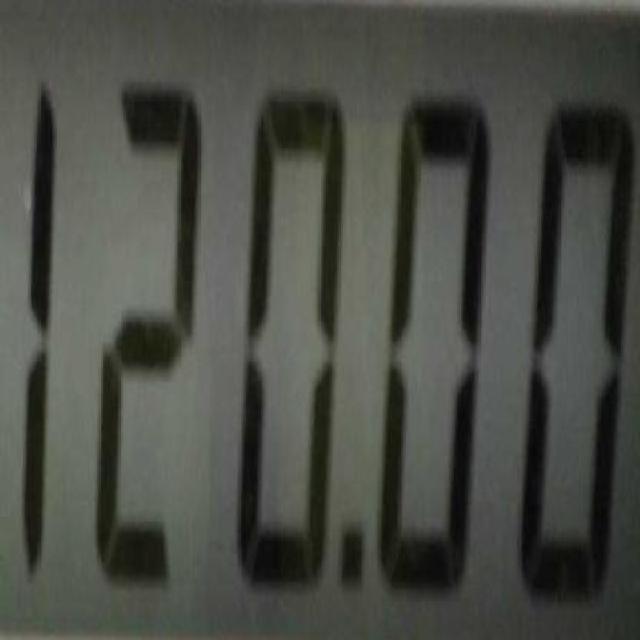.: (340, 531, 364, 583)
0: (232, 89, 342, 589), (380, 101, 492, 590), (522, 107, 630, 597)
1: (23, 81, 58, 575)
2: (94, 85, 204, 590)
